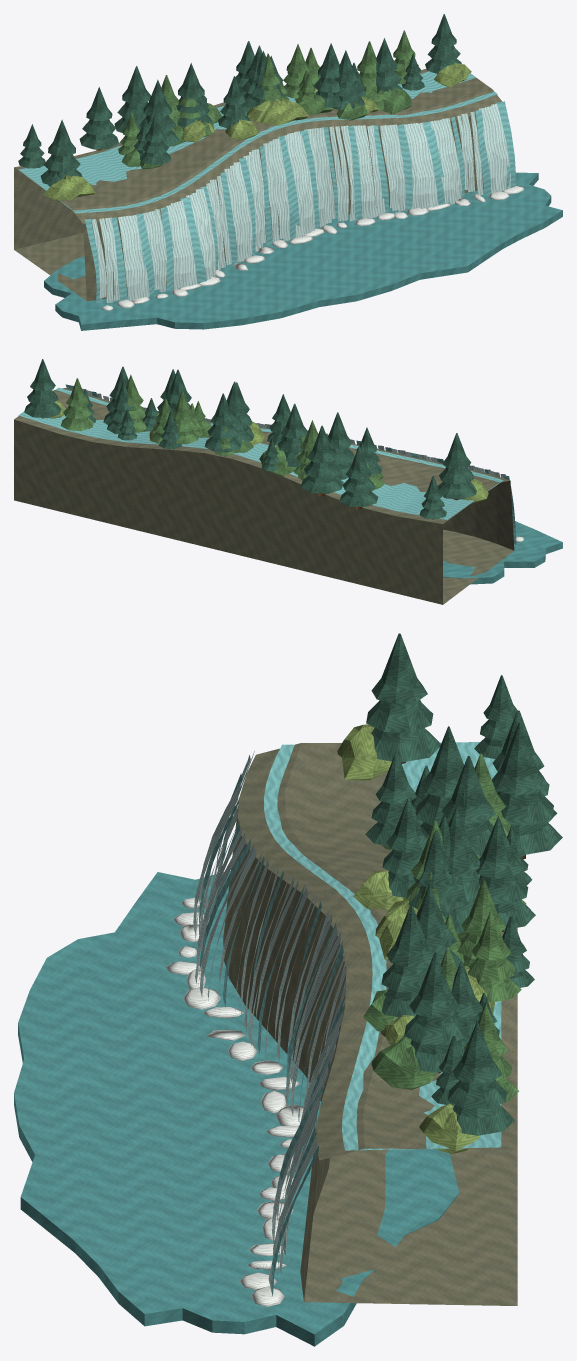
Rendered from jiuzhaigou.glb.
3 views of the same model, one above another, from view 1: azimuth 30°, elevation 25°; view 2: azimuth 150°, elevation 25°; view 3: azimuth 270°, elevation 25° (orthographic). The views are drawn at different scales.
Visible parts, largest first — view 1: 九寨沟; view 2: 九寨沟; view 3: 九寨沟.
Boxes of the visible parts, <box> form: 九寨沟: <box>14,14,562,330</box>; 九寨沟: <box>14,359,562,604</box>; 九寨沟: <box>14,633,562,1346</box>.
Size of the model in its own units: 7.97 by 2.6 by 4.
9 materials, 9 textured.
